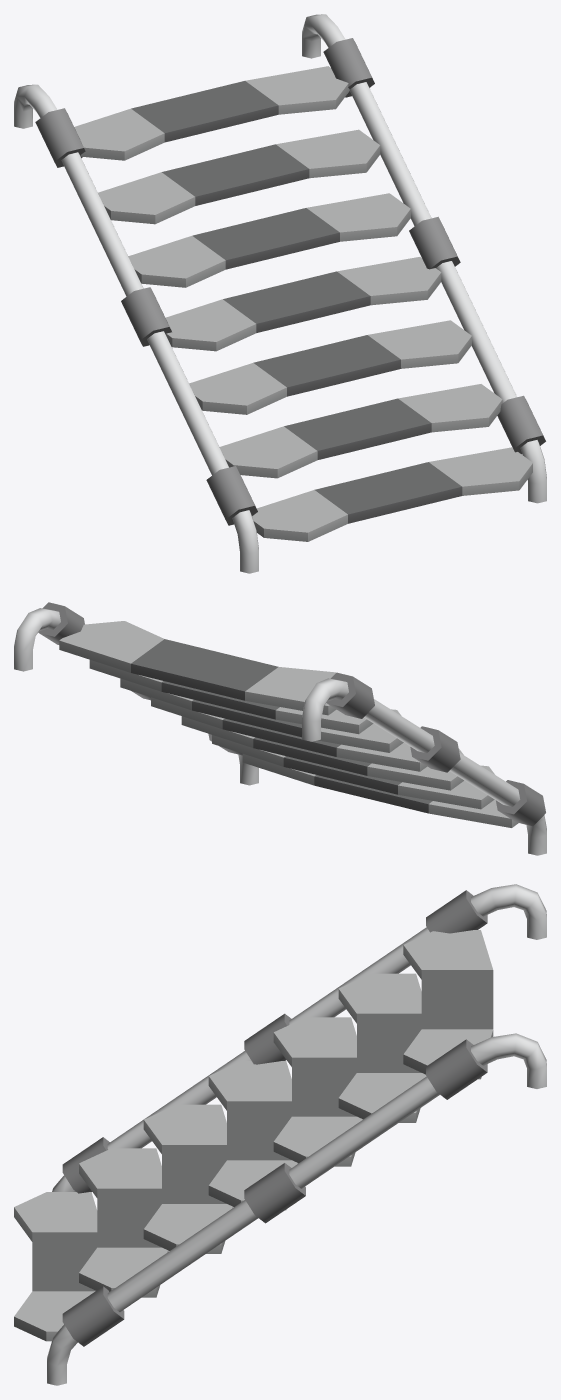
File: Stair_type_A_003.fbx
3 views of the same model, one above another, from view 1: azimuth 30°, elevation 25°; view 2: azimuth 150°, elevation 25°; view 3: azimuth 270°, elevation 25° (orthographic). The views are drawn at different scales.
Parts seen in each view (by area): view 1: Stair_type_A_003; view 2: Stair_type_A_003; view 3: Stair_type_A_003.
Boxes of the visible parts, x1,y1,x2,y2 form: Stair_type_A_003: [14, 14, 546, 573]; Stair_type_A_003: [14, 602, 546, 855]; Stair_type_A_003: [14, 884, 546, 1385].
Bounding box in the file's own units: 180 × 244 × 175.
